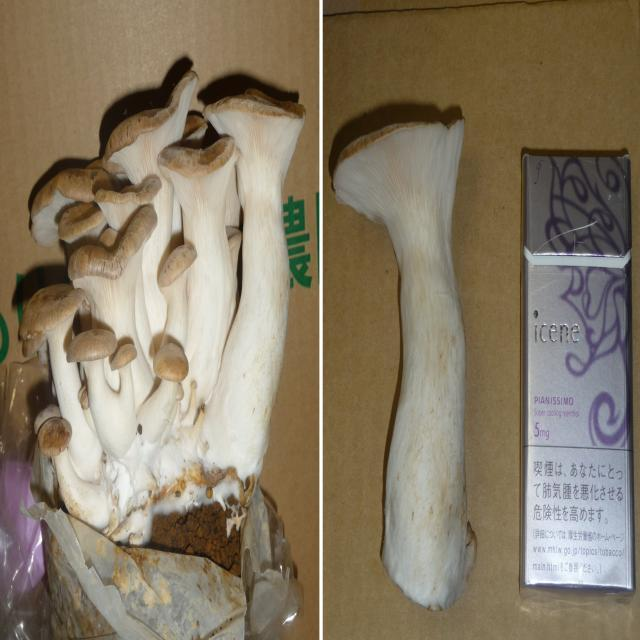Pleurotus eryngii: (19, 74, 306, 537), (335, 113, 476, 613)
